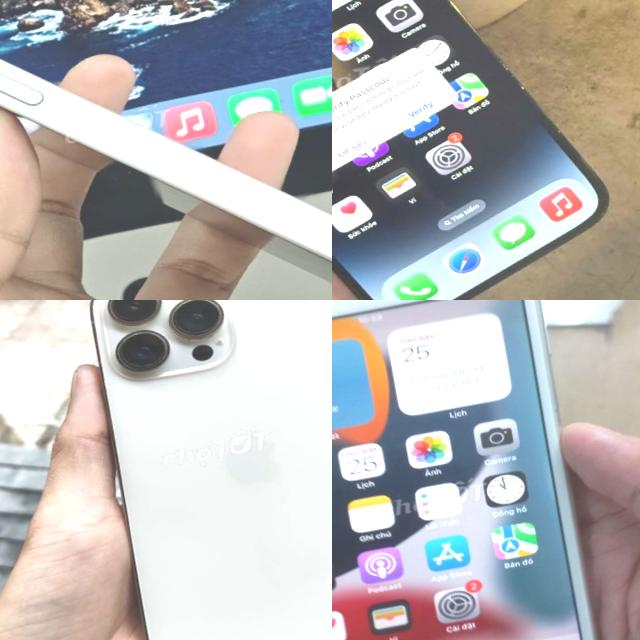gen_12_13: (80, 300, 332, 640)
gen_14: (332, 0, 629, 300)
gen_16: (0, 58, 332, 282)
gen_7_8: (332, 300, 639, 640)
